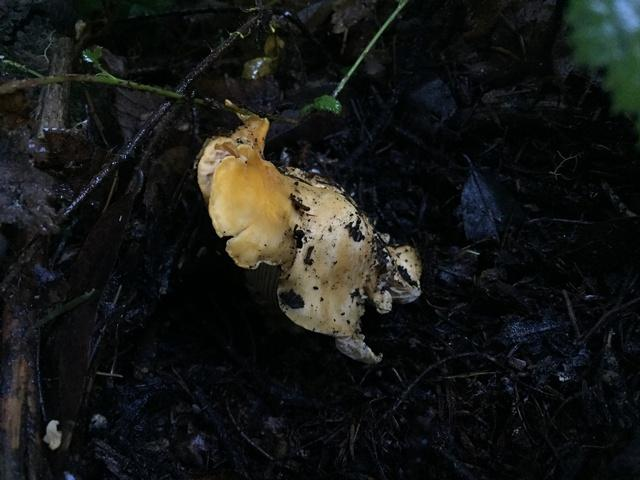edible_mushroom: (195, 106, 423, 365)
